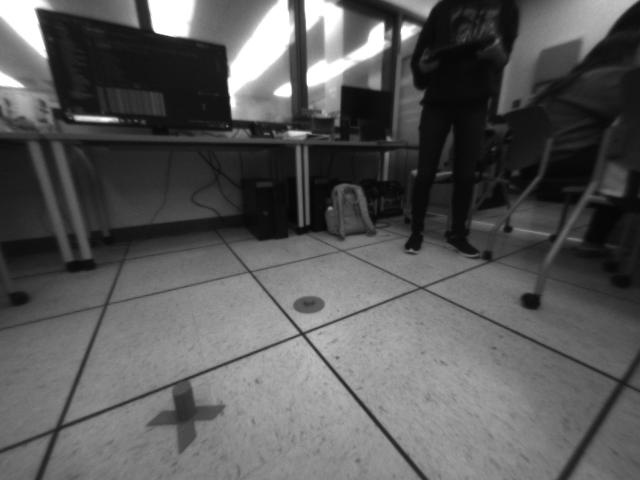X: (145, 378, 227, 455)
